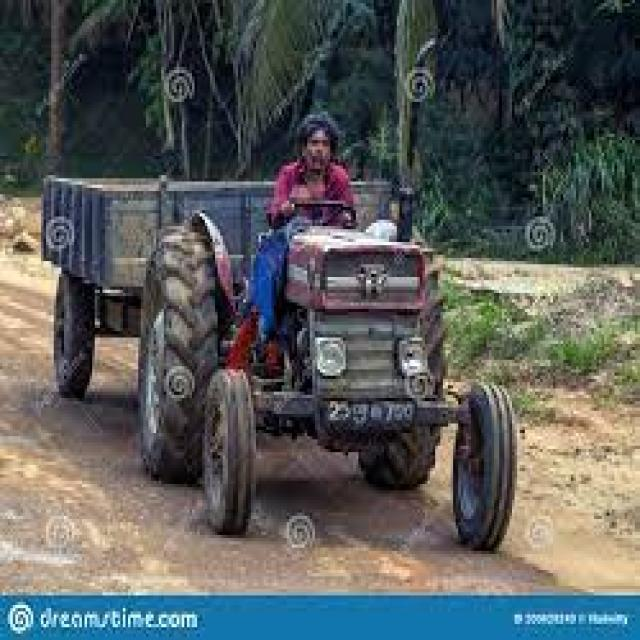person: (251, 111, 353, 341)
tractor: (41, 64, 515, 548)
